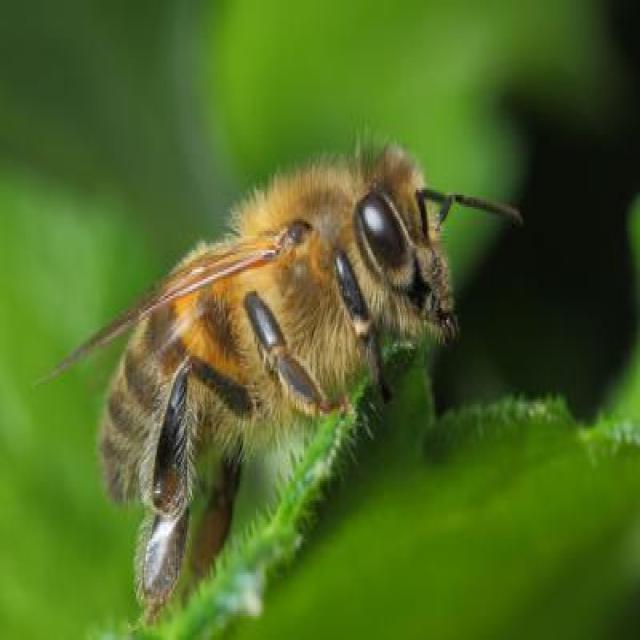antennae: (441, 187, 525, 253), (412, 176, 453, 244)
body: (106, 146, 445, 503)
insect: (32, 133, 524, 623)
legs: (139, 358, 250, 612), (242, 293, 348, 423), (330, 248, 396, 424), (185, 432, 248, 596)
mouthpart: (396, 264, 456, 337)
wings: (34, 214, 316, 392)
